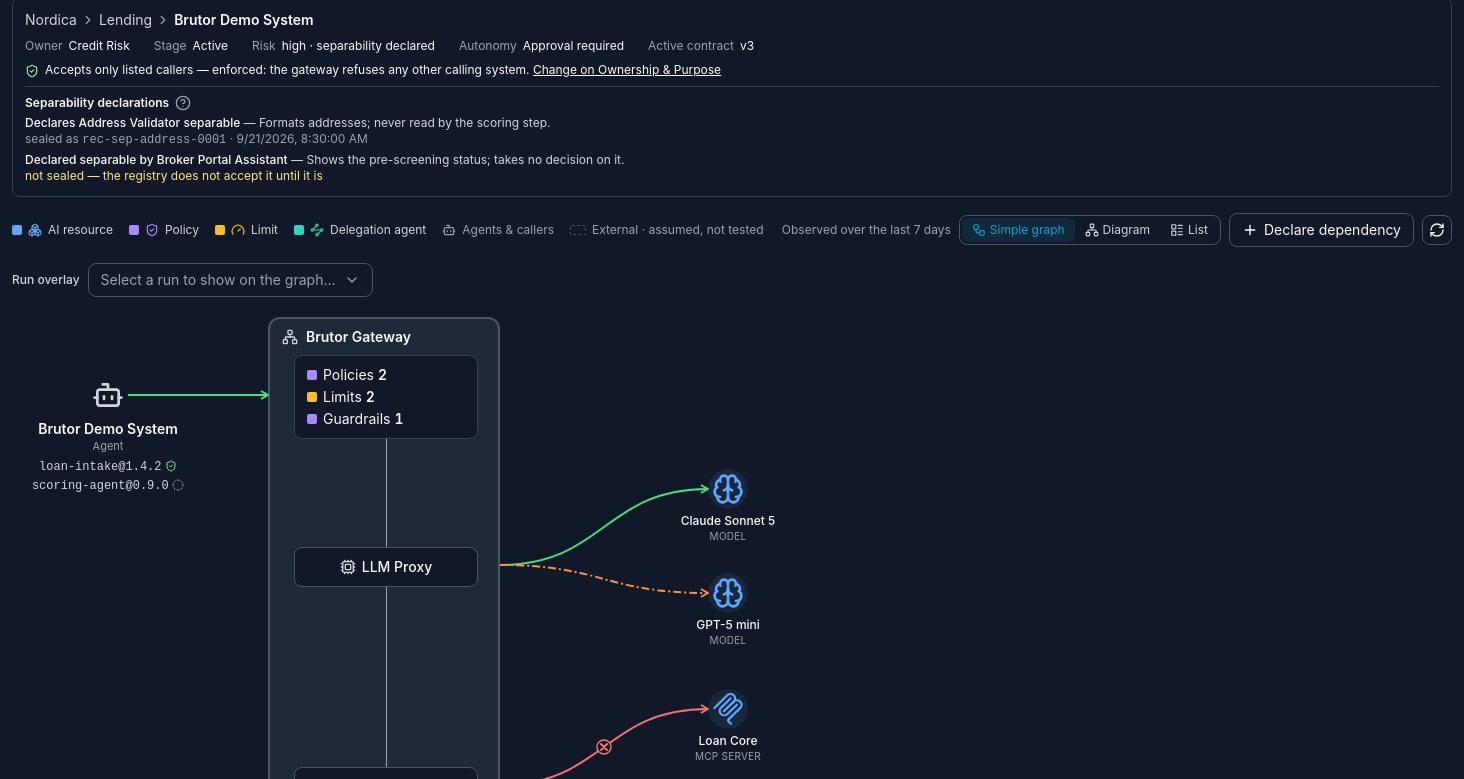
Test: external nodes — supplier and boundary task states › shows the supplier and the task-state mix, most frequent first
The image size is (1464, 779).
Click the button with test id "composition-view-diagram".
click(1117, 230)  # box [1075,218,1160,242]
(page scrolled)
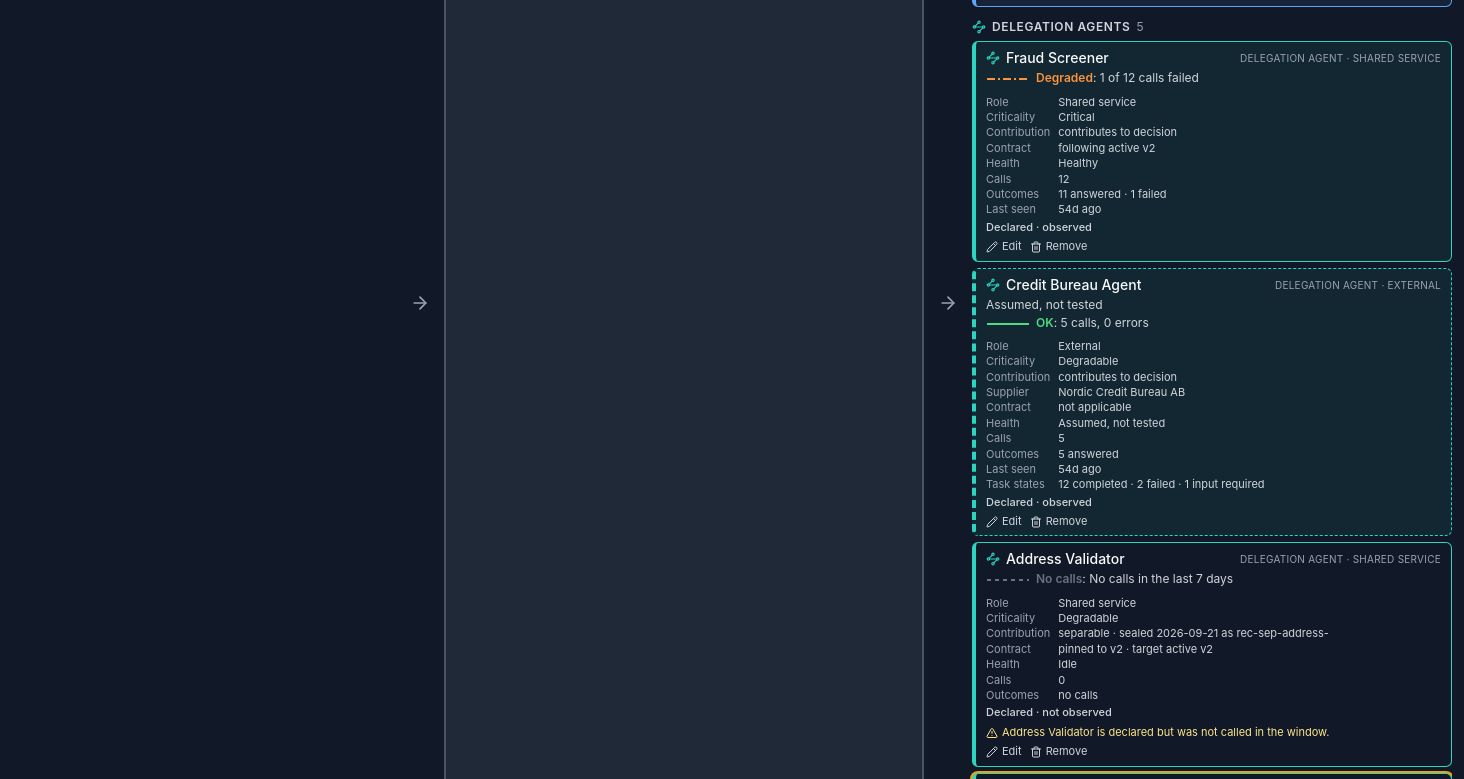
Expected: the element with test id "composition-node-dep:dep-bureau" shows "Nordic Credit Bureau AB", [1058,385,1185,399]
Expected: the element with test id "composition-node-dep:dep-bureau" shows "12 completed · 2 failed · 1 input required", [1058,477,1265,491]
